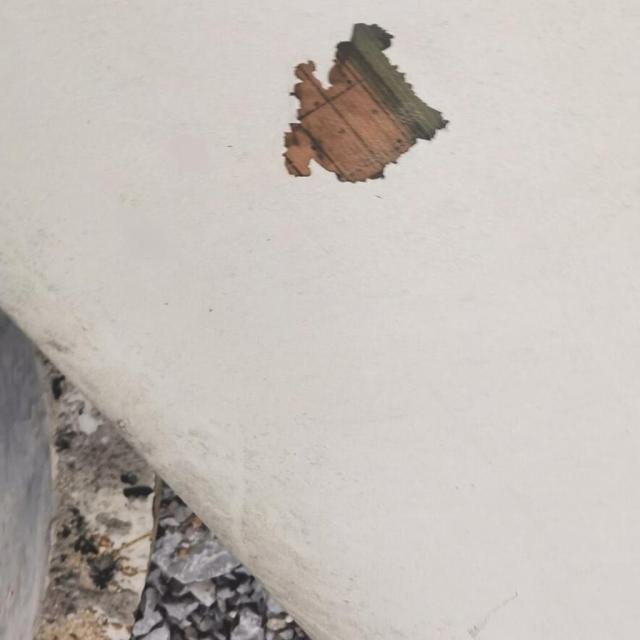surface_peeling: (270, 8, 453, 208)
